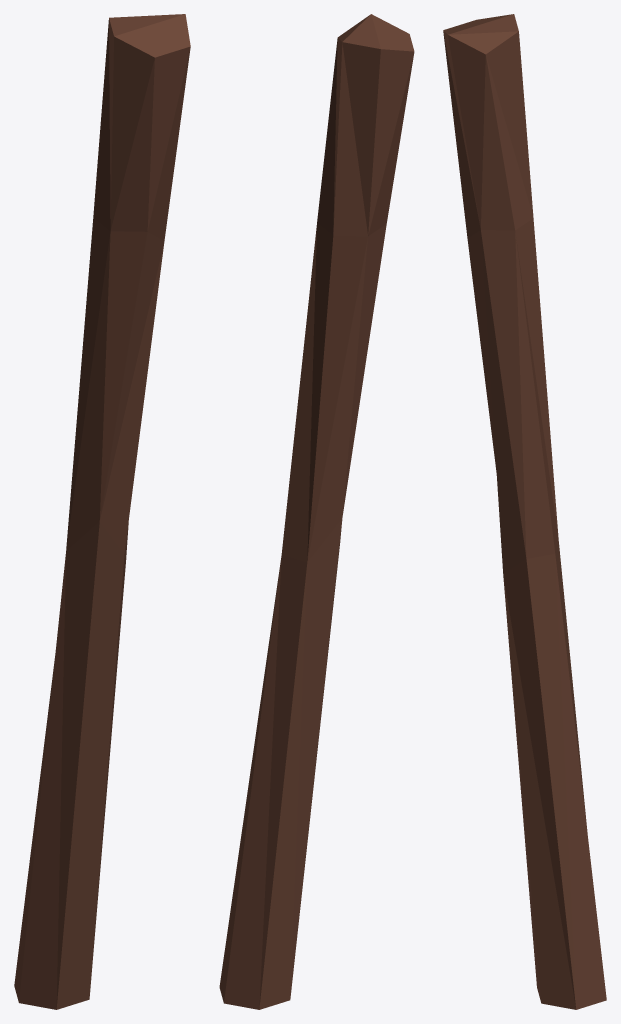
File: Wooden Stick_4.fbx
The picture shows the model from 3 angles, left to right: view 1: azimuth 90°, elevation 25°; view 2: azimuth 150°, elevation 25°; view 3: azimuth 270°, elevation 25°; orthographic projection. The views are drawn at different scales.
Visible parts, largest first — view 1: Wooden Stick_4.001; view 2: Wooden Stick_4.001; view 3: Wooden Stick_4.001.
Boxes of the visible parts, x1,y1,x2,y2 form: Wooden Stick_4.001: [14, 14, 190, 1009]; Wooden Stick_4.001: [219, 14, 414, 1009]; Wooden Stick_4.001: [443, 14, 606, 1009].
Bounding box in the file's own units: 0.2571 × 1.61 × 0.2562.
